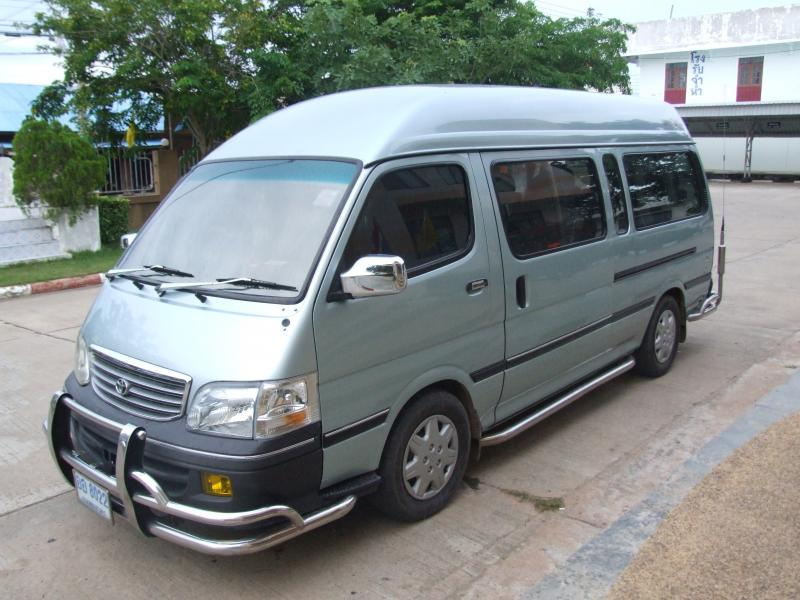van: (44, 80, 719, 561)
